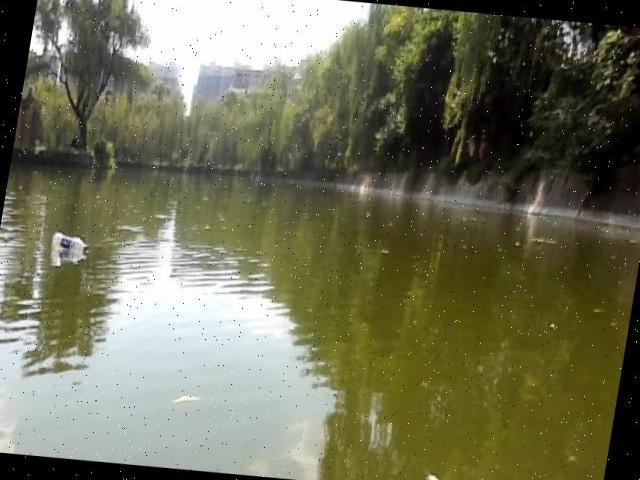Bottle: (45, 226, 99, 258)
